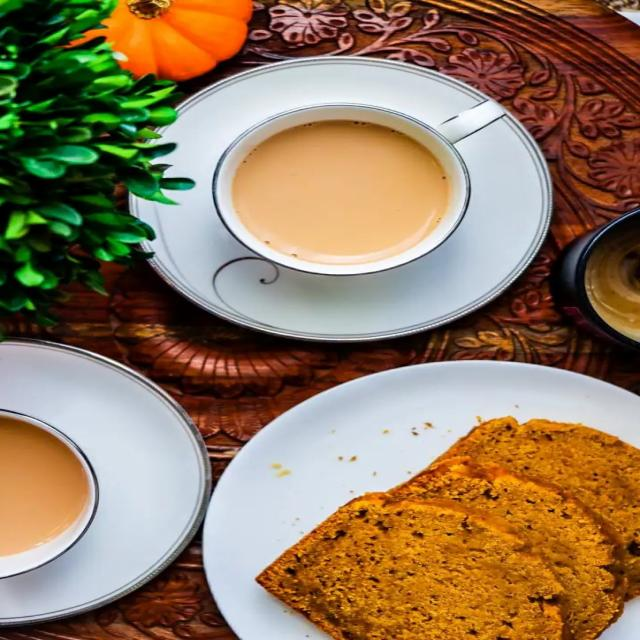Chai: (229, 125, 456, 256), (0, 422, 88, 574)
